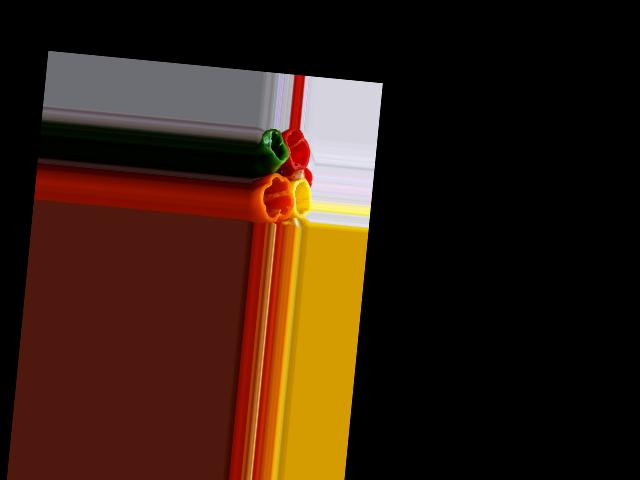bell_pepper: (283, 130, 313, 171)
